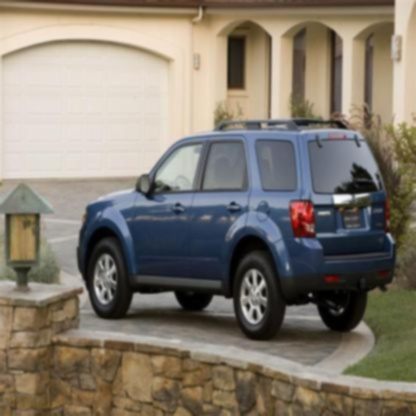Vehicle: (78, 116, 400, 348)
